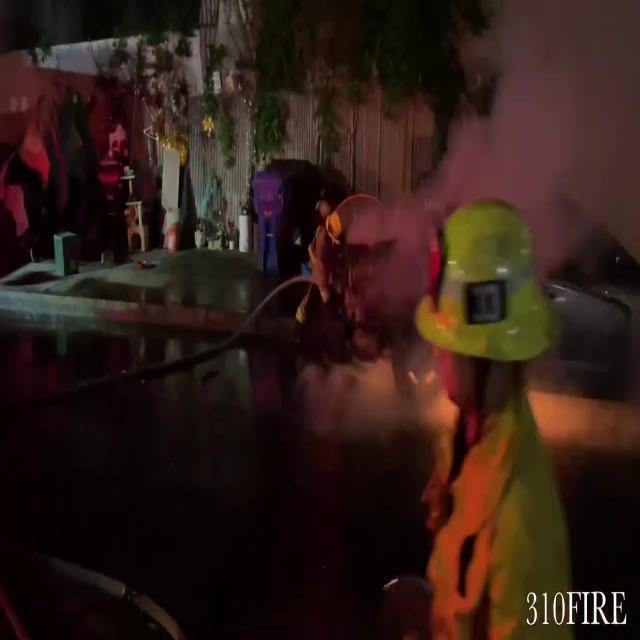Smoke: (450, 0, 640, 233)
